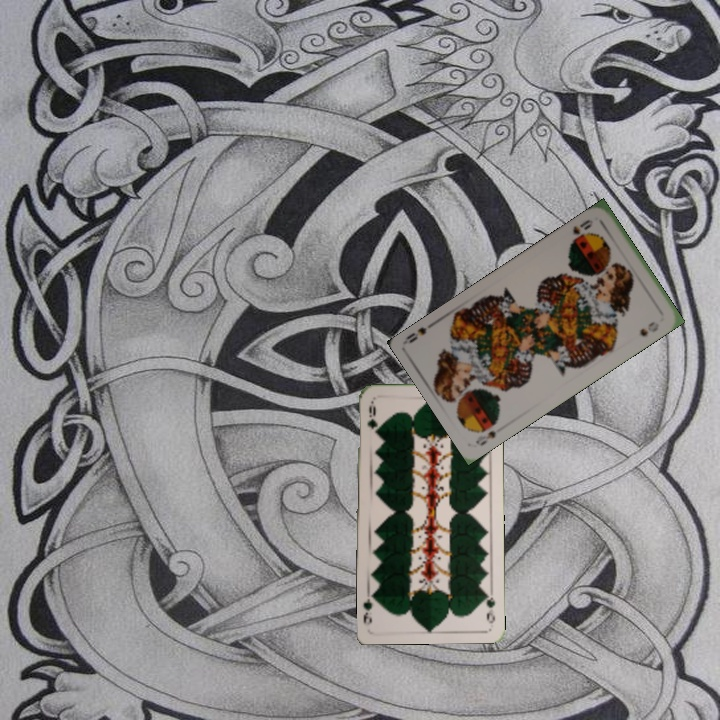G9: (480, 586, 498, 626), (363, 399, 378, 438)
SO: (569, 215, 595, 237), (472, 427, 498, 449)
